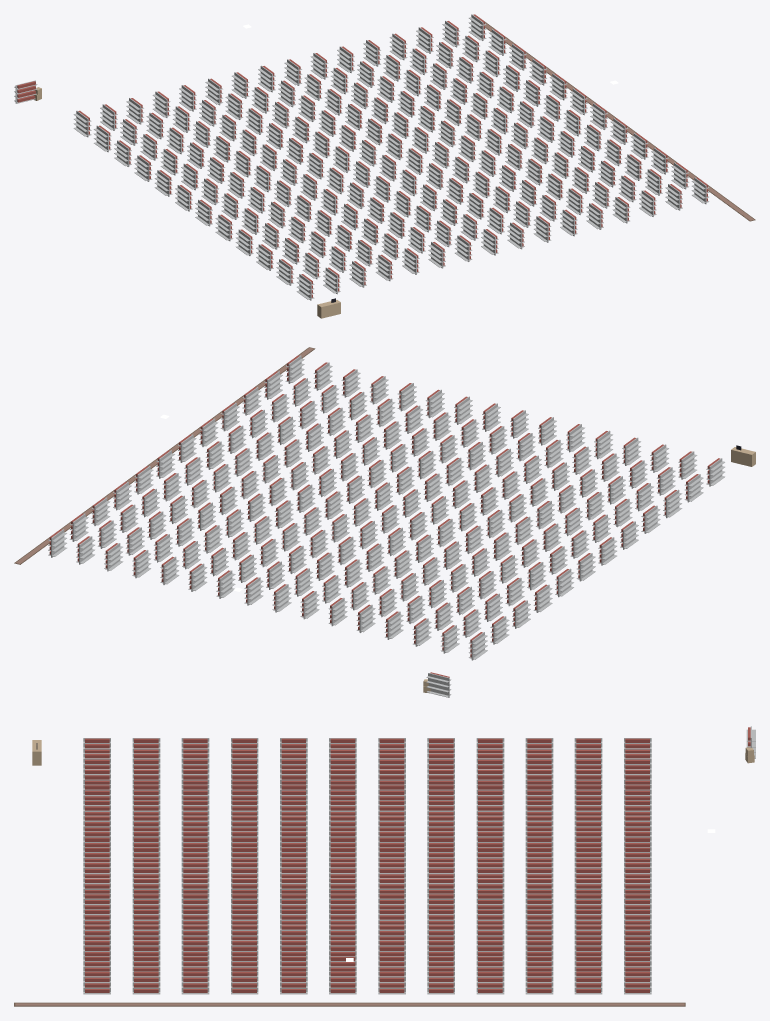
Rendered from fine-s0.glb.
3 renders of one model, top to bottom at view 1: azimuth 30°, elevation 25°; view 2: azimuth 150°, elevation 25°; view 3: azimuth 270°, elevation 25°, orthographic. The views are drawn at different scales.
Parts seen in each view (by area): view 1: soft-s0; view 2: soft-s0; view 3: soft-s0, shelf.181, shelf.182, shelf.183, shelf.189, shelf.190, shelf.180, shelf.184, shelf.185, shelf.186, shelf.187, shelf.191 (+45 smaller).
Boxes of the visible parts, left/top/right/bottom form: soft-s0: left=484, top=22, right=755, bottom=221; soft-s0: left=14, top=347, right=315, bottom=564; soft-s0: left=14, top=1002, right=685, bottom=1006; shelf.181: left=574, top=971, right=602, bottom=994; shelf.182: left=525, top=971, right=553, bottom=994; shelf.183: left=476, top=971, right=504, bottom=994; shelf.189: left=181, top=971, right=209, bottom=994; shelf.190: left=132, top=971, right=160, bottom=994; shelf.180: left=624, top=971, right=651, bottom=994; shelf.184: left=427, top=971, right=454, bottom=994; shelf.185: left=378, top=971, right=405, bottom=994; shelf.186: left=329, top=971, right=356, bottom=994; shelf.187: left=280, top=971, right=307, bottom=994; shelf.191: left=83, top=971, right=110, bottom=994.
Size of the model in its own units: 39.73 by 3.24 by 48.32.
